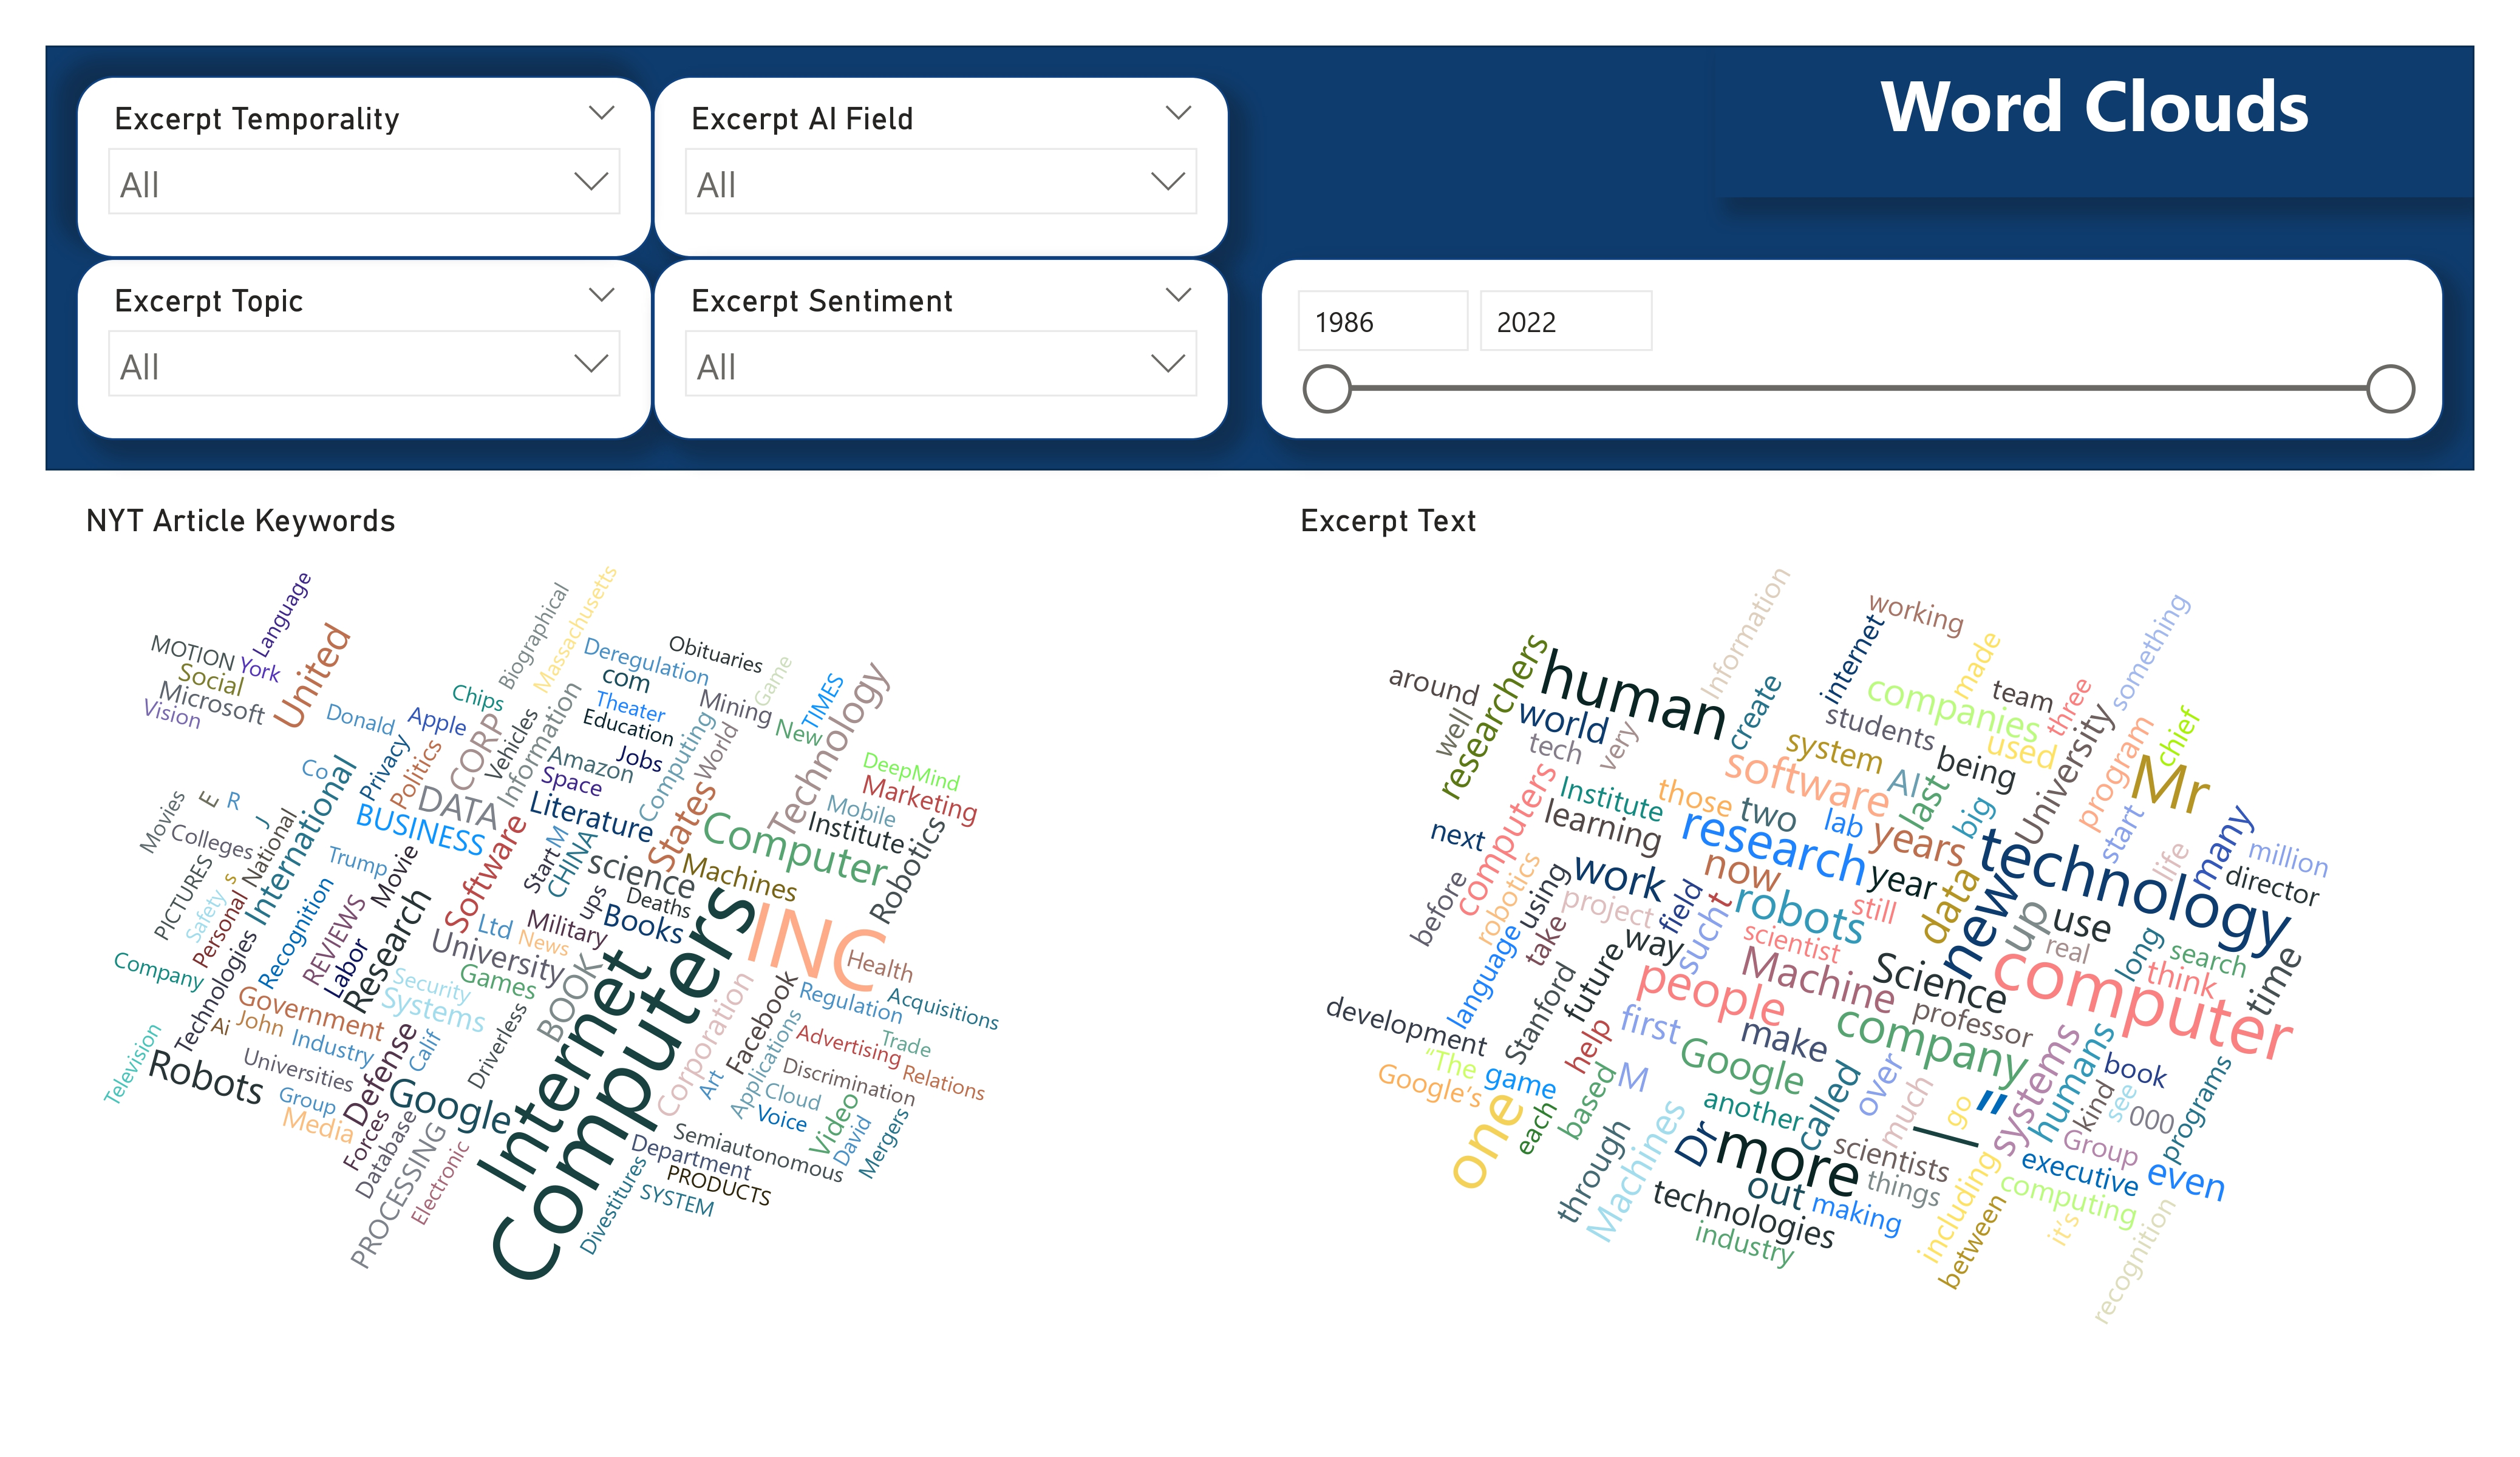

The dashboard page shown, as its layout file describes it:
{"tool":"powerbi","page":{"name":"Word Clouds","canvas":[1280,720],"ordinal":1},"visuals":[{"type":"shape","box":[0,0,1280,224],"z":0},{"type":"WordCloud1447959067750","title":"NYT Article Keywords","fields":{"Category":["ai-mood.keywords"],"Values":["ai-mood.web_url"]},"box":[16,240,624,464],"z":1000},{"type":"WordCloud1447959067750","title":"Excerpt Text","fields":{"Values":["ai-mood.web_url"],"Category":["ai-mood.text"]},"box":[656,240,624,464],"z":2000},{"type":"textbox","box":[880,0,400,80],"z":8000},{"type":"slicer","fields":{"Values":["ai-mood.field"]},"box":[320,16,304,96],"z":8500},{"type":"slicer","fields":{"Values":["ai-mood.topic"]},"box":[16,112,304,96],"z":9000},{"type":"slicer","fields":{"Values":["ai-mood.pub_date.Variation.Date Hierarchy.Year"]},"box":[640,112,624,96],"z":9500},{"type":"slicer","fields":{"Values":["ai-mood.temporality"]},"box":[16,16,304,96],"z":10000},{"type":"slicer","fields":{"Values":["ai-mood.sentiment_likert_label"]},"box":[320,112,304,96],"z":10500}]}

Visuals, with their boxes on the page's 1280x720 design canvas (x1, y1, x2, y2). These are canvas units, not pixel positions in the 2520x1457 screenshot, which may show the page scaled, cropped or inside an application window:
shape: [x1=0, y1=0, x2=1280, y2=224]
"NYT Article Keywords" WordCloud1447959067750: [x1=16, y1=240, x2=640, y2=704]
"Excerpt Text" WordCloud1447959067750: [x1=656, y1=240, x2=1280, y2=704]
textbox: [x1=880, y1=0, x2=1280, y2=80]
slicer - ai-mood.field: [x1=320, y1=16, x2=624, y2=112]
slicer - ai-mood.topic: [x1=16, y1=112, x2=320, y2=208]
slicer - ai-mood.pub_date.Variation.Date Hierarchy.Year: [x1=640, y1=112, x2=1264, y2=208]
slicer - ai-mood.temporality: [x1=16, y1=16, x2=320, y2=112]
slicer - ai-mood.sentiment_likert_label: [x1=320, y1=112, x2=624, y2=208]
